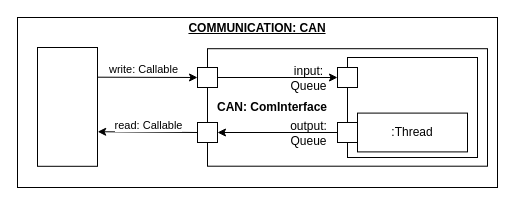
Image size: 515x205. Some labels were removed from this diagram. Here are the shapes that lost their labels. From the top down, the box of each, then its label:
(36, 46, 98, 166): main: Process
(346, 56, 478, 158): CANProcess : ProcessInterface
